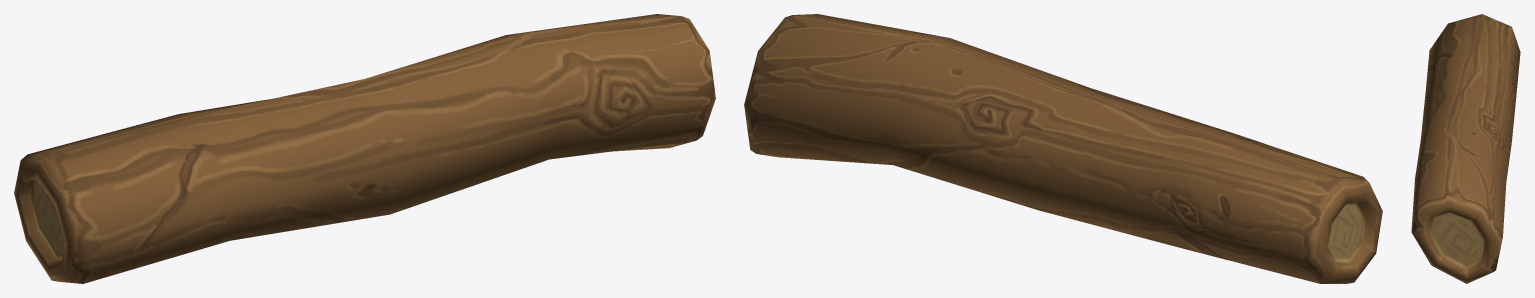
Rendered from Odun 02.fbx.
3 views of the same model, side by side, from view 1: azimuth 30°, elevation 25°; view 2: azimuth 150°, elevation 25°; view 3: azimuth 270°, elevation 25° (orthographic). The views are drawn at different scales.
Parts seen in each view (by area): view 1: log02; view 2: log02; view 3: log02.
Boxes of the visible parts, <box> form: log02: <box>14,14,715,283</box>; log02: <box>744,14,1382,283</box>; log02: <box>1411,14,1520,283</box>.
Bounding box in the file's own units: 302 × 71.39 × 71.87.
Materials: 1 (1 with a texture image).
